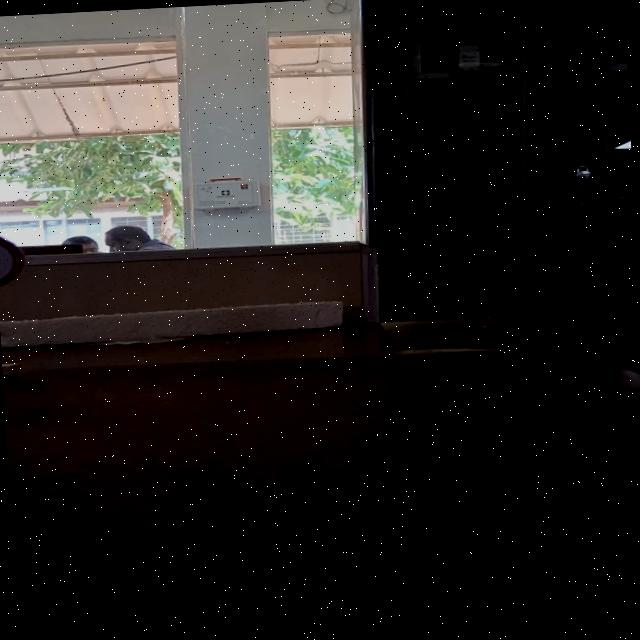Speed60: (0, 227, 28, 293)
